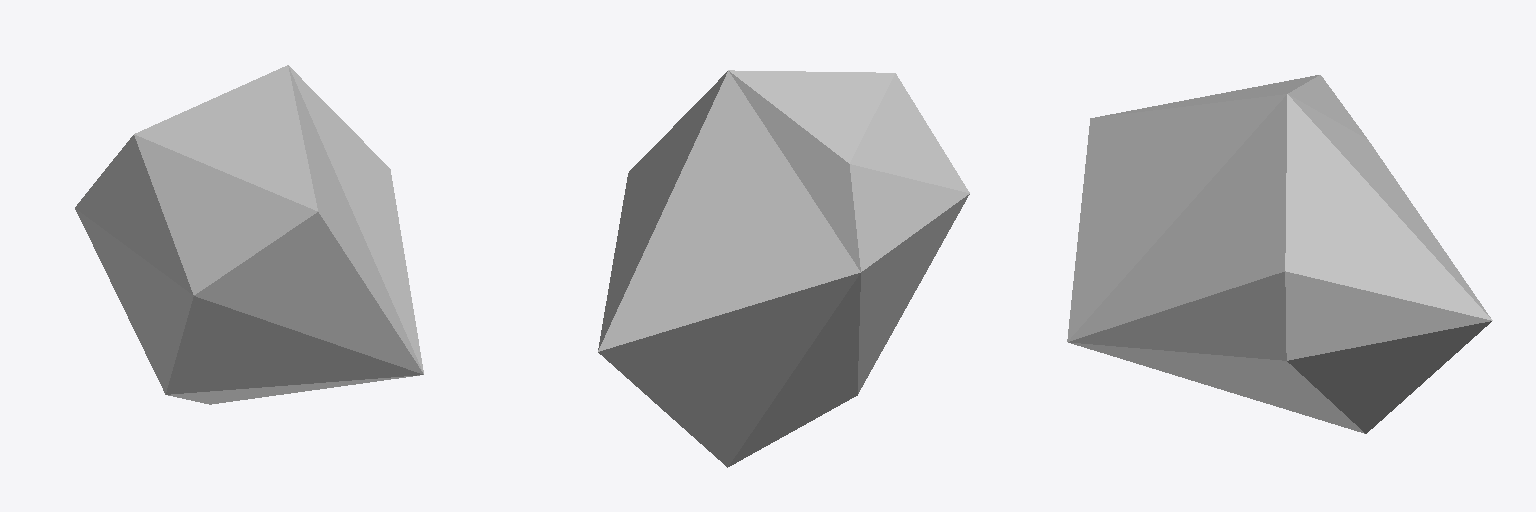
File: culture.obj
3 renders of one model, left to right at view 1: azimuth 30°, elevation 25°; view 2: azimuth 150°, elevation 25°; view 3: azimuth 270°, elevation 25°, orthographic.
Visible parts, largest first — view 1: 000_Buffer_Layer; view 2: 000_Buffer_Layer; view 3: 000_Buffer_Layer.
Part boxes in pixels (x1,y1,x2,y2): 000_Buffer_Layer: (75, 65, 423, 404); 000_Buffer_Layer: (598, 70, 969, 467); 000_Buffer_Layer: (1067, 75, 1492, 433).
Bounding box in the file's own units: 68.02 × 85.08 × 91.4.